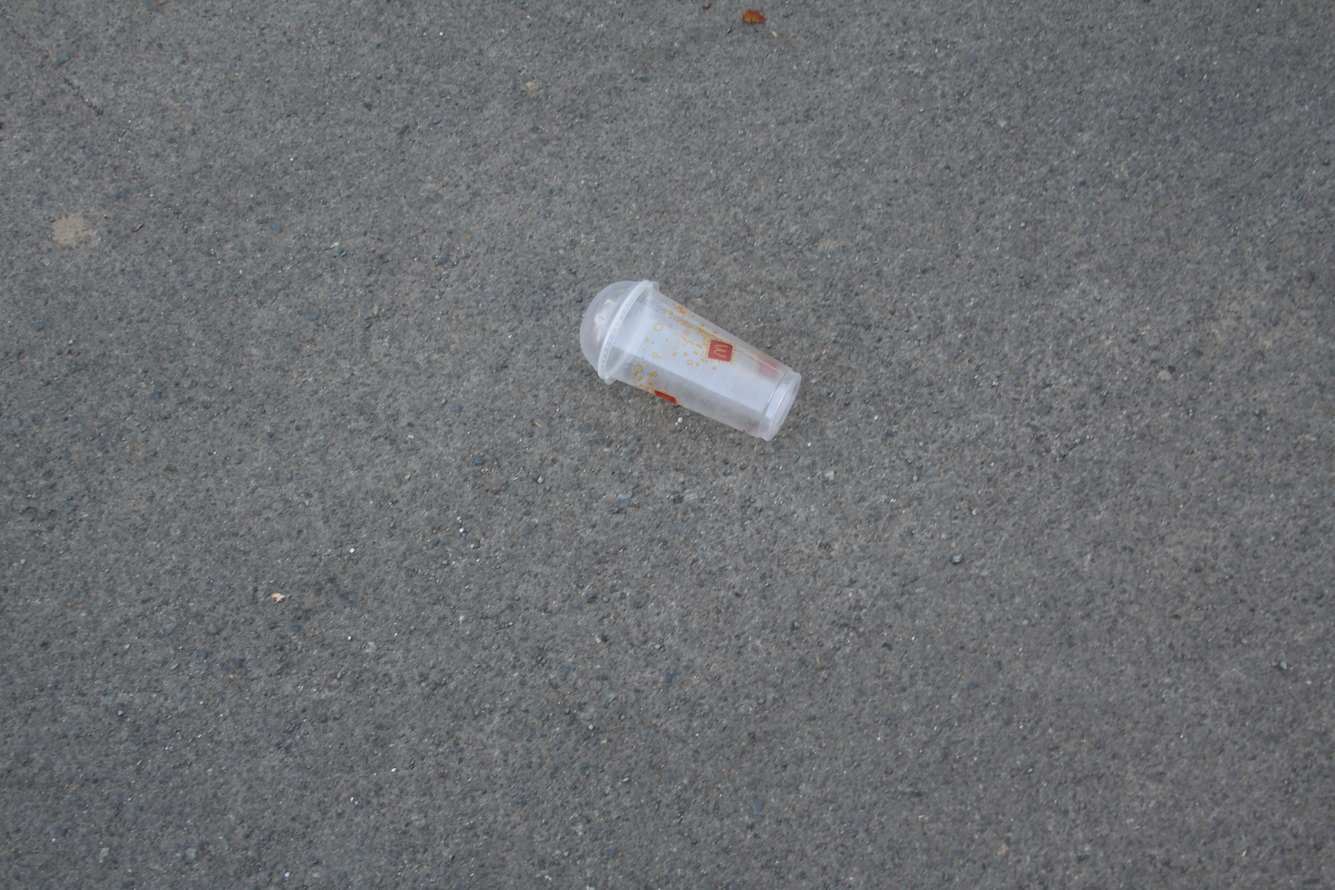Plastic: (579, 279, 802, 443)
